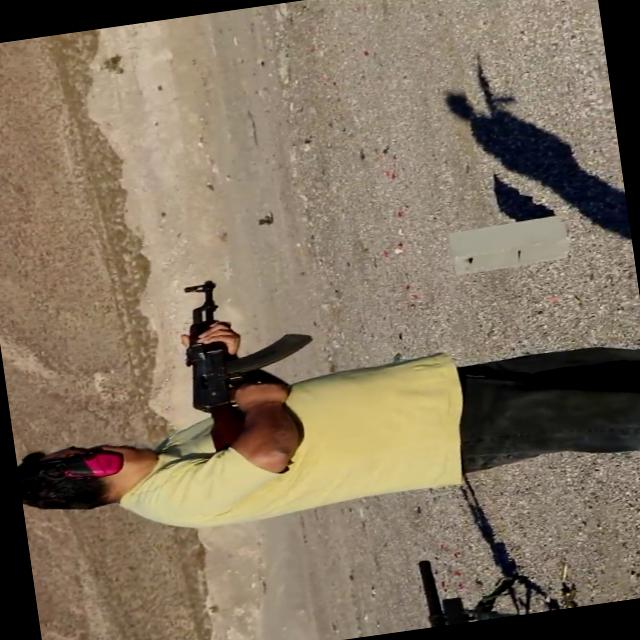long weapon: (167, 260, 321, 463)
